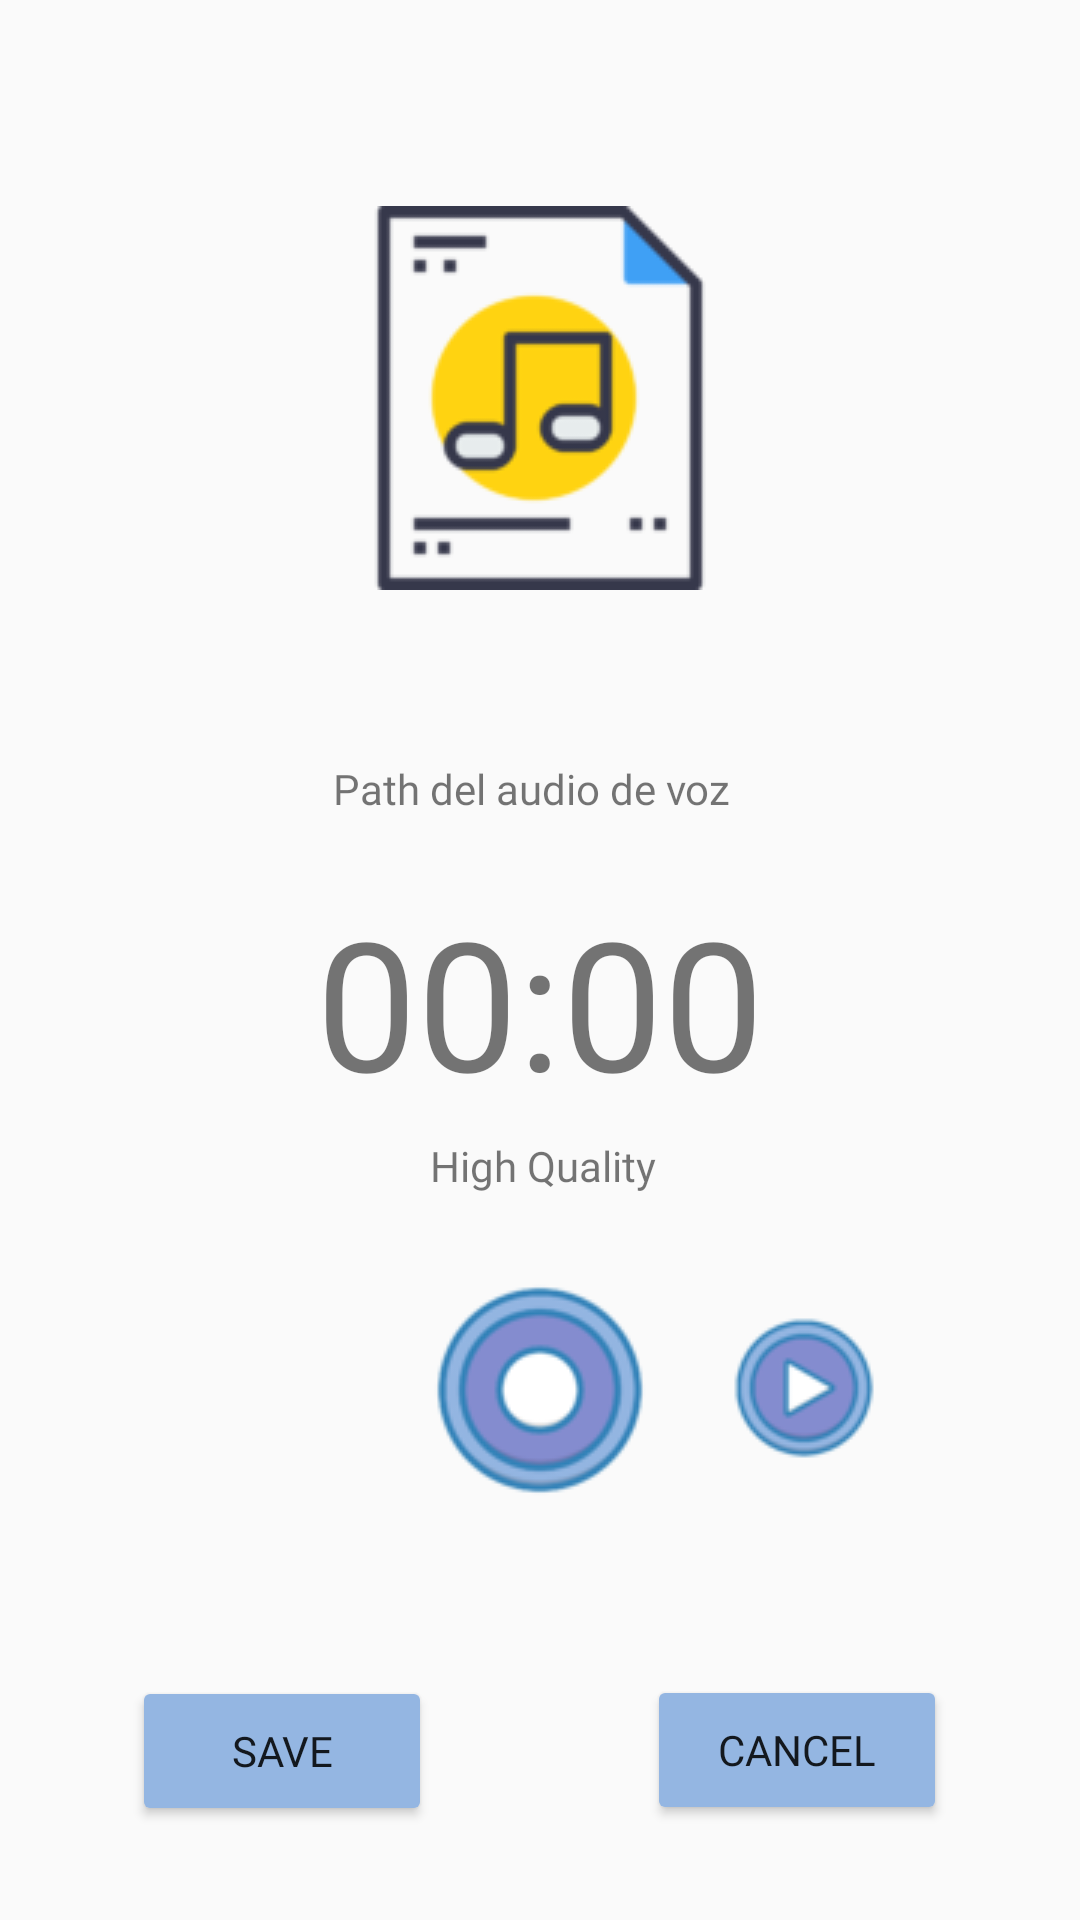

Where to tap for icons on this 1080w x 1920h app screen, as point (x, y):
play: point (804, 1388)
record: point (540, 1390)
